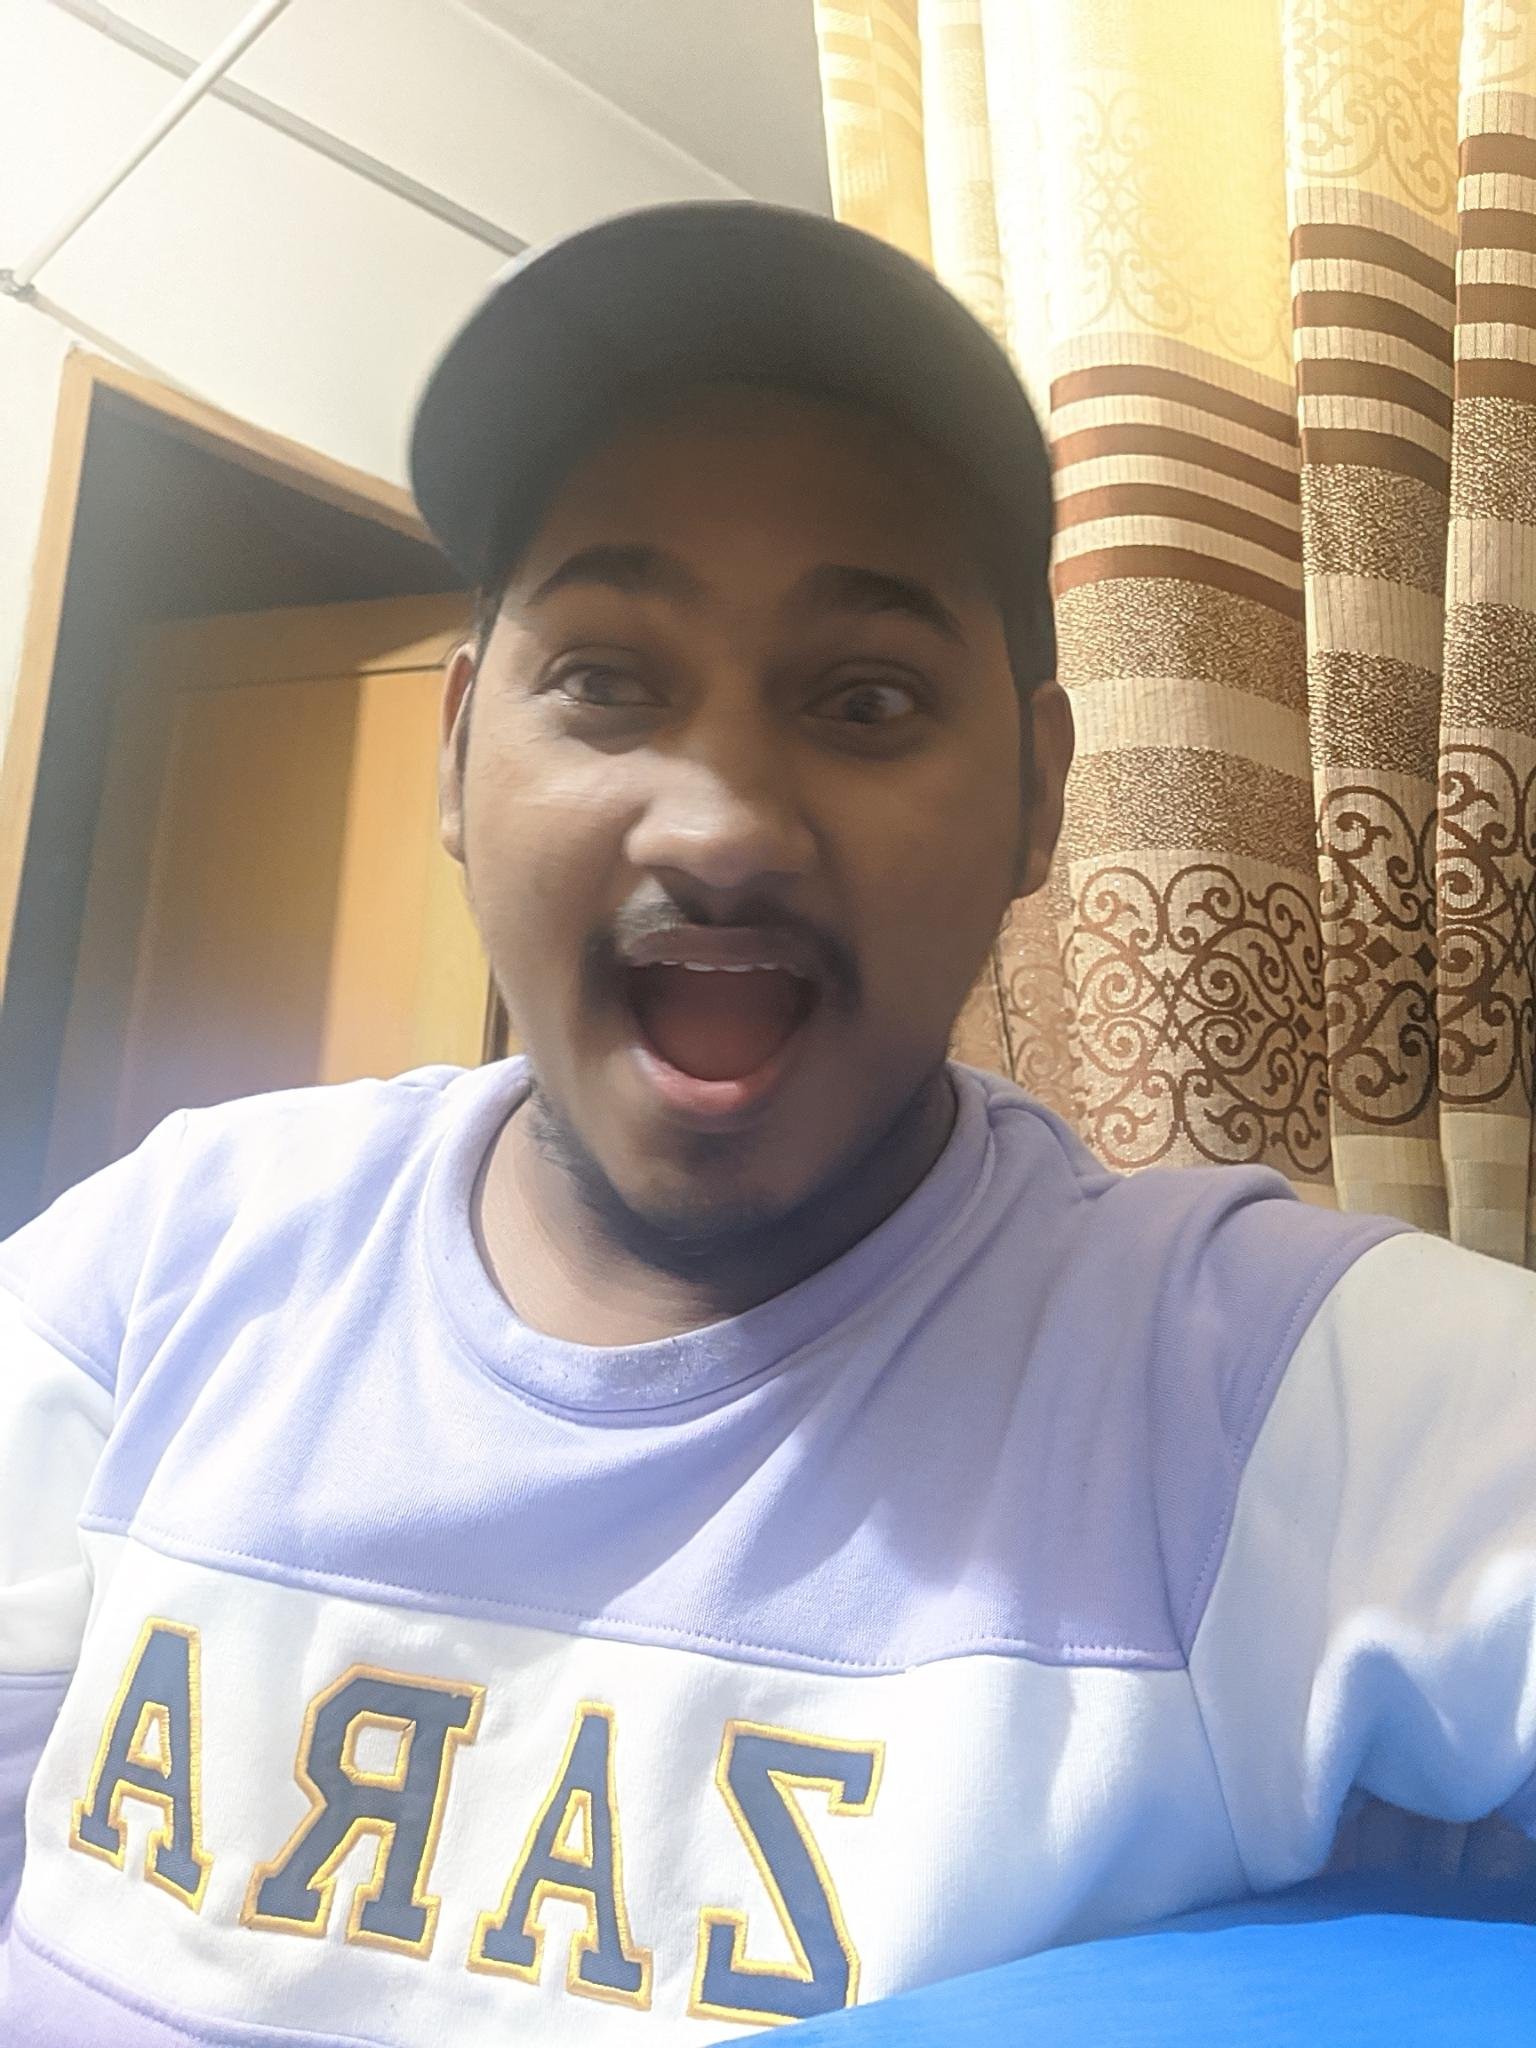Surprise: (445, 458, 1044, 1258)
